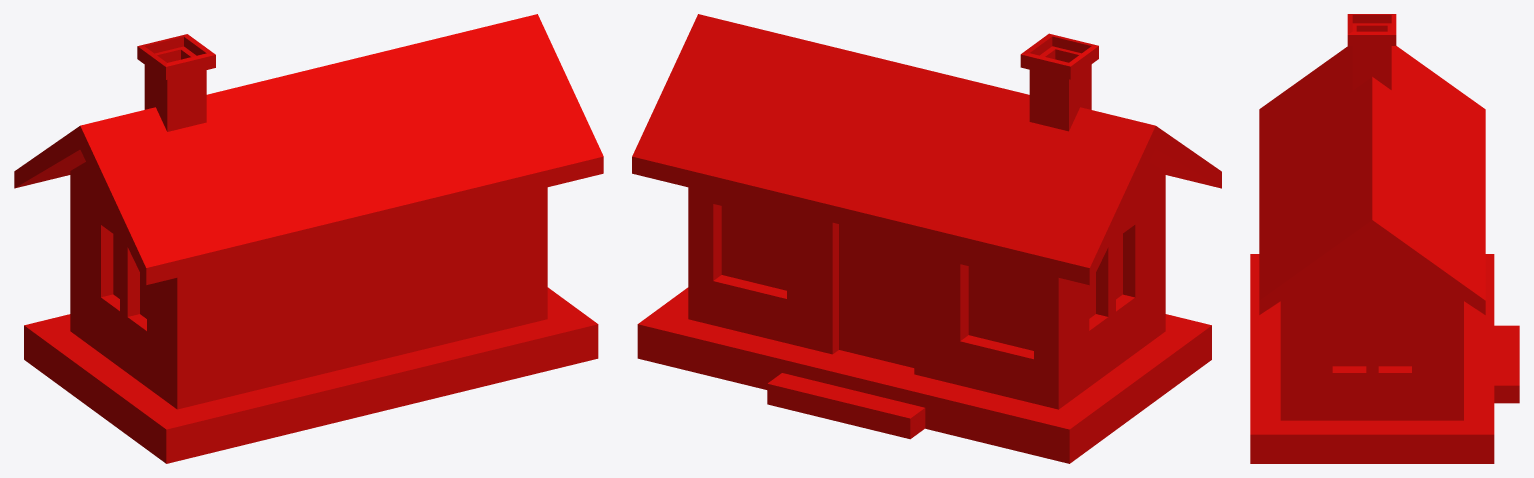
Rendered from house.fbx.
3 renders of one model, left to right at view 1: azimuth 30°, elevation 25°; view 2: azimuth 150°, elevation 25°; view 3: azimuth 270°, elevation 25°, orthographic. The views are drawn at different scales.
Visible parts, largest first — view 1: Cube.007; view 2: Cube.007; view 3: Cube.007.
Boxes of the visible parts, x1,y1,x2,y2 form: Cube.007: (14, 14, 603, 463); Cube.007: (632, 14, 1221, 463); Cube.007: (1250, 14, 1519, 463).
Bounding box in the file's own units: 494 × 353 × 294.
